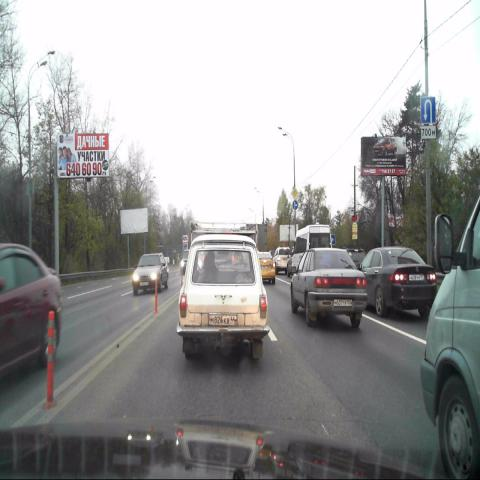6_3_1: (420, 96, 435, 123)
